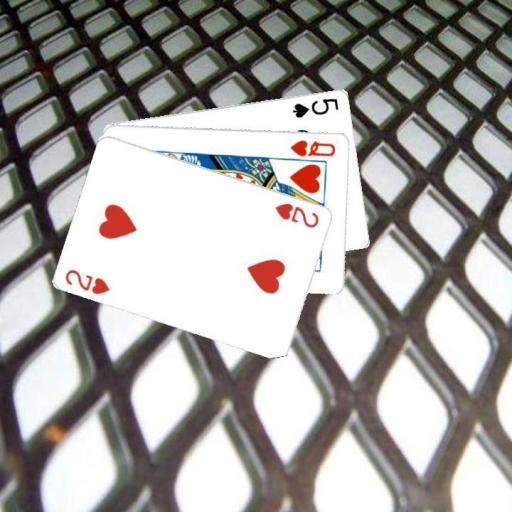2H: (272, 199, 321, 230), (62, 266, 112, 296)
5S: (290, 95, 341, 119)
QH: (287, 136, 338, 158)
